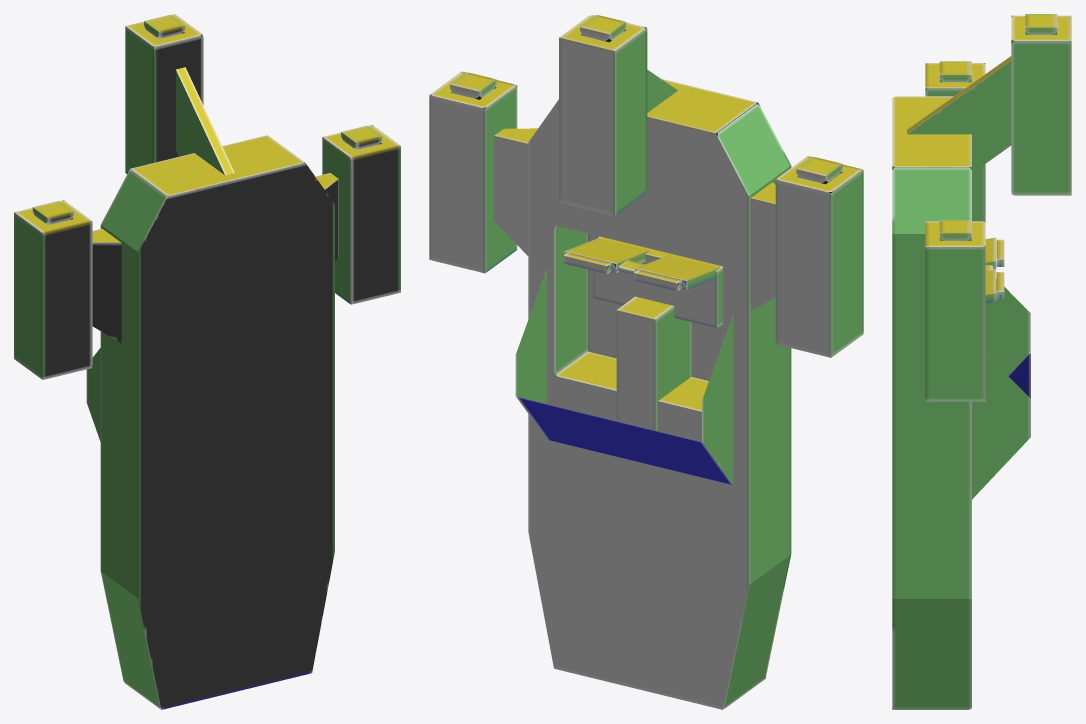
The model's file is landspeeder.dae.
3 views of the same model, side by side, from view 1: azimuth 30°, elevation 25°; view 2: azimuth 150°, elevation 25°; view 3: azimuth 270°, elevation 25° (orthographic). The views are drawn at different scales.
Parts seen in each view (by area): view 1: Fuselage; view 2: Fuselage; view 3: Fuselage.
Part boxes in pixels (x1,y1,x2,y2): Fuselage: [14, 14, 400, 709]; Fuselage: [429, 15, 863, 709]; Fuselage: [892, 14, 1071, 709].
Size of the model in its own units: 5.14 by 2.12 by 8.46.
